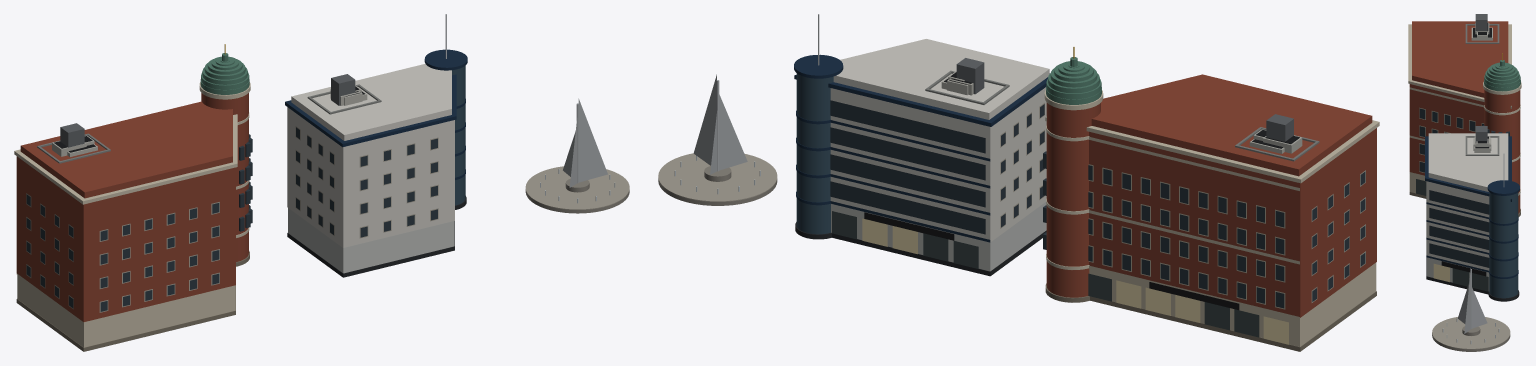
File: hatoba.glb
The picture shows the model from 3 angles, left to right: view 1: azimuth 30°, elevation 25°; view 2: azimuth 150°, elevation 25°; view 3: azimuth 270°, elevation 25°; orthographic projection. The views are drawn at different scales.
Parts seen in each view (by area): view 1: hatoba_flatiron_a_body, hatoba_flatiron_b_body, hatoba_hokage_body; view 2: hatoba_flatiron_a_body, hatoba_flatiron_b_body, hatoba_hokage_body; view 3: hatoba_flatiron_b_body, hatoba_flatiron_a_body, hatoba_hokage_body.
Boxes of the visible parts, bbox=[...] form: hatoba_flatiron_a_body: bbox=[14, 44, 252, 351]; hatoba_flatiron_b_body: bbox=[285, 14, 467, 277]; hatoba_hokage_body: bbox=[525, 98, 629, 213]; hatoba_flatiron_a_body: bbox=[1043, 47, 1379, 351]; hatoba_flatiron_b_body: bbox=[794, 14, 1049, 276]; hatoba_hokage_body: bbox=[658, 74, 777, 205]; hatoba_flatiron_b_body: bbox=[1425, 126, 1519, 301]; hatoba_flatiron_a_body: bbox=[1408, 14, 1521, 216]; hatoba_hokage_body: bbox=[1432, 268, 1510, 351].
Size of the model in its own units: 90.25 by 31.6 by 20.26.
